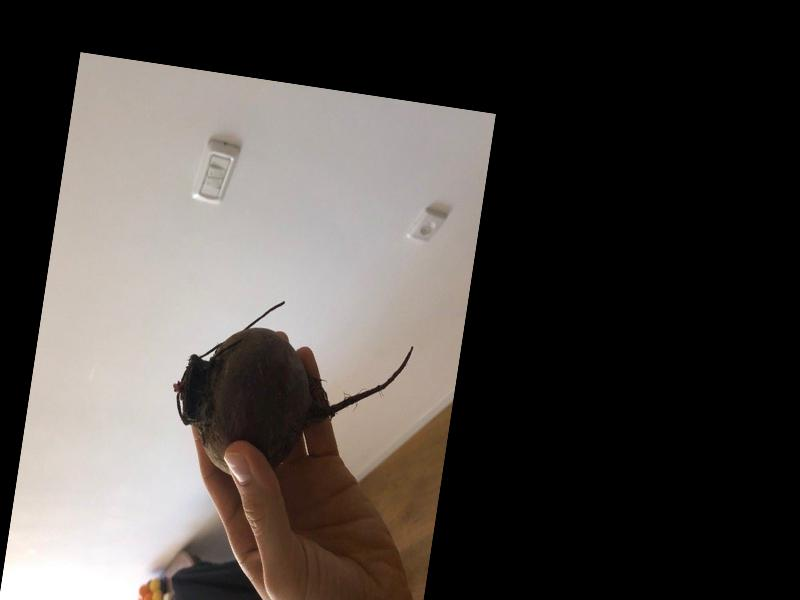Beet: (161, 285, 417, 499)
